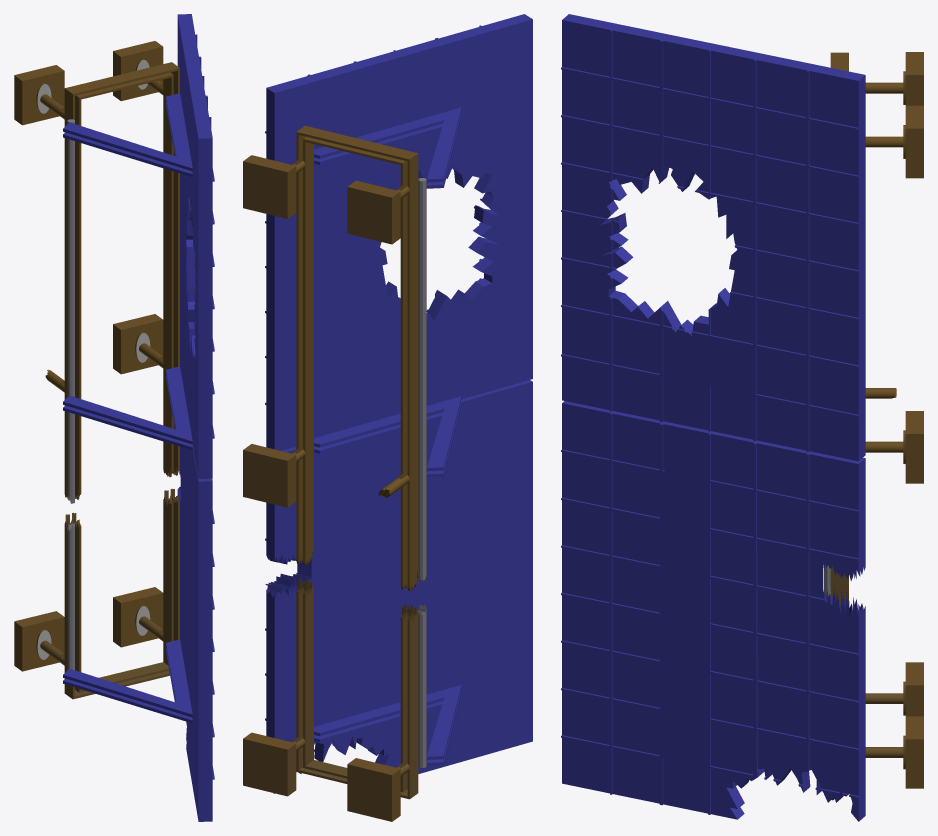
The model's file is Broken Solar panel v1.fbx.
3 renders of one model, left to right at view 1: azimuth 30°, elevation 25°; view 2: azimuth 150°, elevation 25°; view 3: azimuth 270°, elevation 25°, orthographic. The views are drawn at different scales.
Parts seen in each view (by area): view 1: Body6, Body2, Body5, Body3, Body1, Body4; view 2: Body6, Body5, Body2, Body3, Body1, Body4; view 3: Body5, Body6, Body2, Body3.
Boxes of the visible parts, x1,y1,x2,y2 form: Body6: (63, 14, 214, 478); Body2: (14, 41, 179, 500); Body5: (63, 375, 214, 821); Body3: (14, 488, 179, 699); Body1: (67, 119, 74, 503); Body4: (67, 523, 74, 669); Body6: (265, 14, 532, 471); Body5: (265, 380, 532, 793); Body2: (243, 125, 418, 591); Body3: (243, 578, 418, 821); Body1: (418, 178, 426, 582); Body4: (418, 604, 426, 767); Body5: (561, 401, 865, 821); Body6: (561, 14, 865, 461); Body2: (830, 52, 923, 483); Body3: (830, 564, 923, 788).
Size of the model in its own units: 270 by 1176 by 506.
